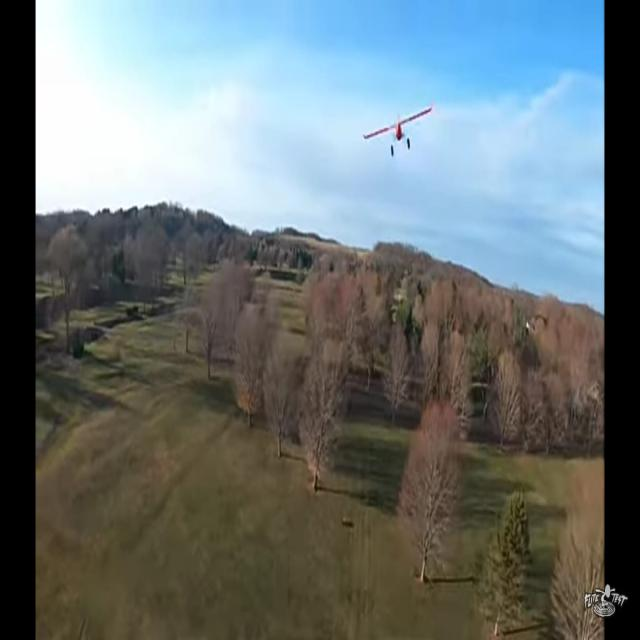iha: (397, 99, 400, 157)
